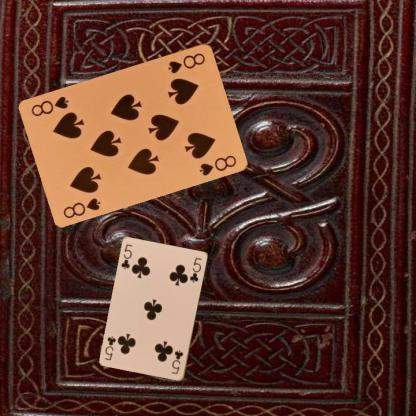5c: (118, 242, 134, 271), (170, 347, 184, 376)
8s: (61, 194, 102, 219), (165, 50, 207, 74)
